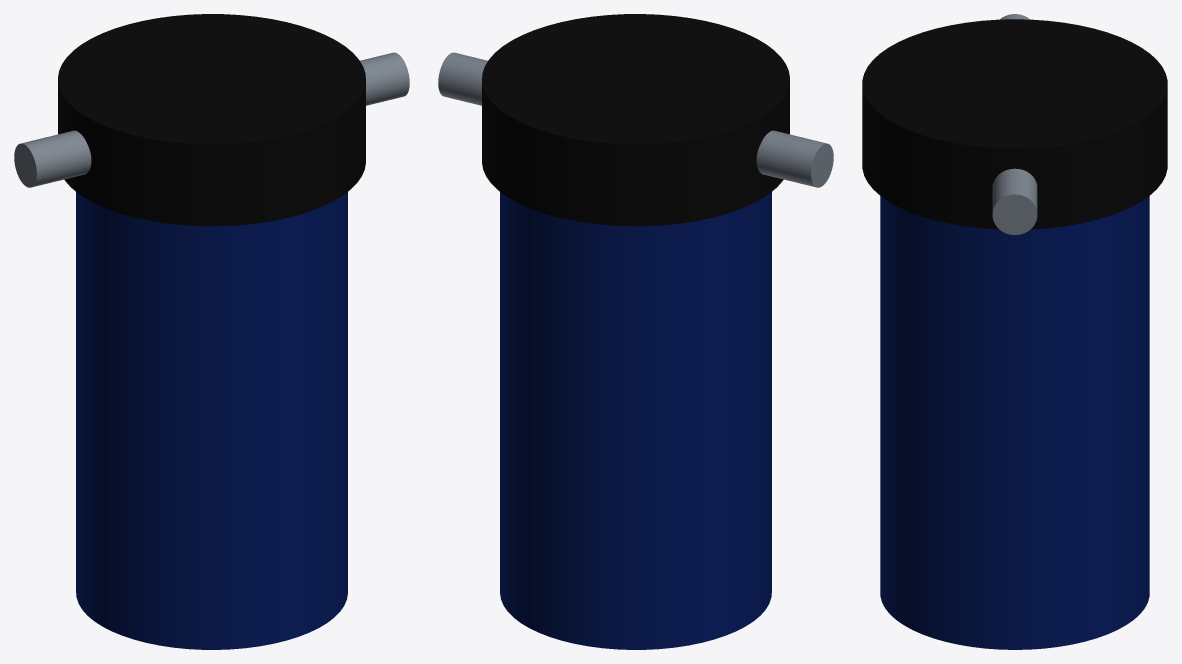
File: cartridge_housing.glb
3 views of the same model, side by side, from view 1: azimuth 30°, elevation 25°; view 2: azimuth 150°, elevation 25°; view 3: azimuth 270°, elevation 25° (orthographic).
Visible parts, largest first — view 1: di_filter; view 2: di_filter; view 3: di_filter.
Part boxes in pixels (bbox=[...]): di_filter: bbox=[14, 14, 409, 649]; di_filter: bbox=[438, 14, 833, 649]; di_filter: bbox=[862, 14, 1167, 649].
Bounding box in the file's own units: 0.19 × 0.25 × 0.1358.
